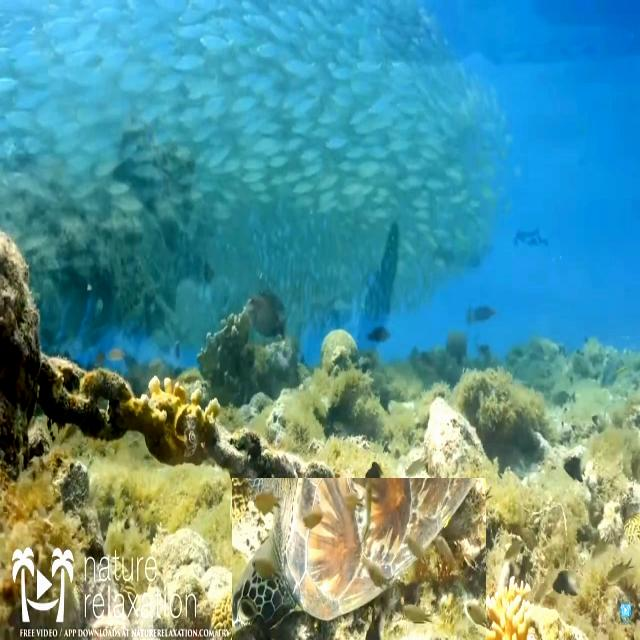Sea turtle: (232, 478, 486, 640)
